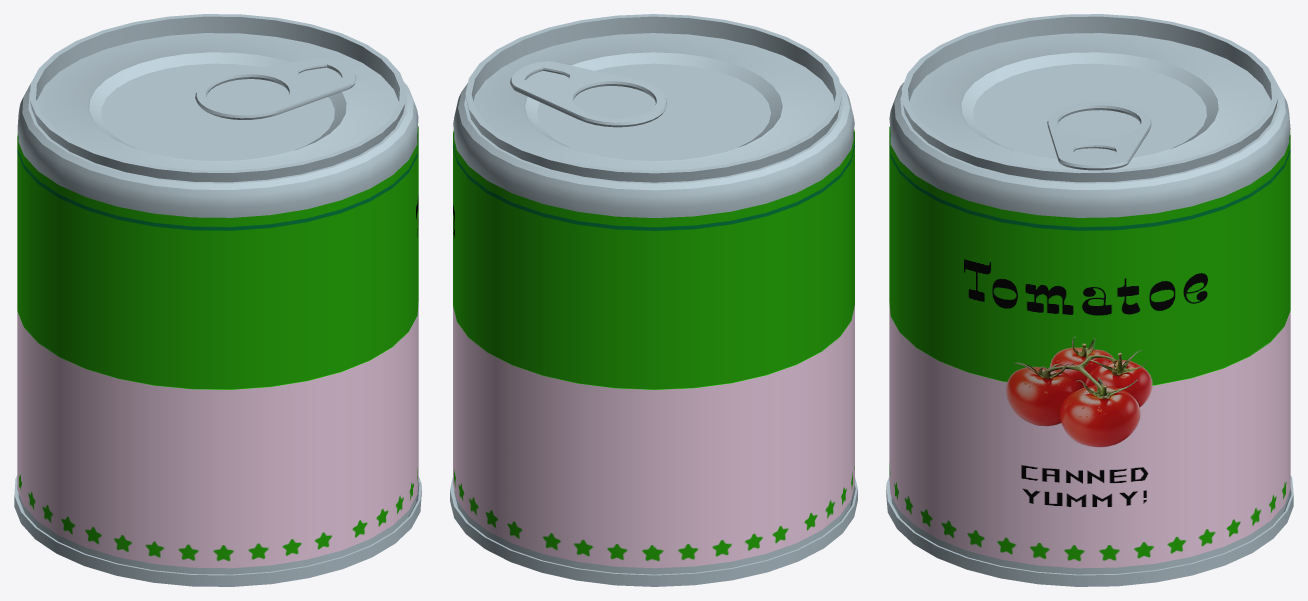
File: Can of Tomatoes.glb
3 renders of one model, left to right at view 1: azimuth 30°, elevation 25°; view 2: azimuth 150°, elevation 25°; view 3: azimuth 270°, elevation 25°, orthographic.
Parts seen in each view (by area): view 1: 1 Label, 1 Can, 1 Can Opener; view 2: 1 Label, 1 Can, 1 Can Opener; view 3: 1 Label, 1 Can, 1 Can Opener.
Part boxes in pixels (x1,y1,x2,y2): 1 Label: (17,126,418,568); 1 Can: (14,14,421,586); 1 Can Opener: (195,58,356,119); 1 Label: (453,129,854,568); 1 Can: (450,14,857,586); 1 Can Opener: (510,61,667,127); 1 Label: (889,126,1290,568); 1 Can: (886,14,1293,586); 1 Can Opener: (1047,101,1151,170).
Bounding box in the file's own units: 0.1969 × 0.2172 × 0.1969.
2 materials, 1 textured.
